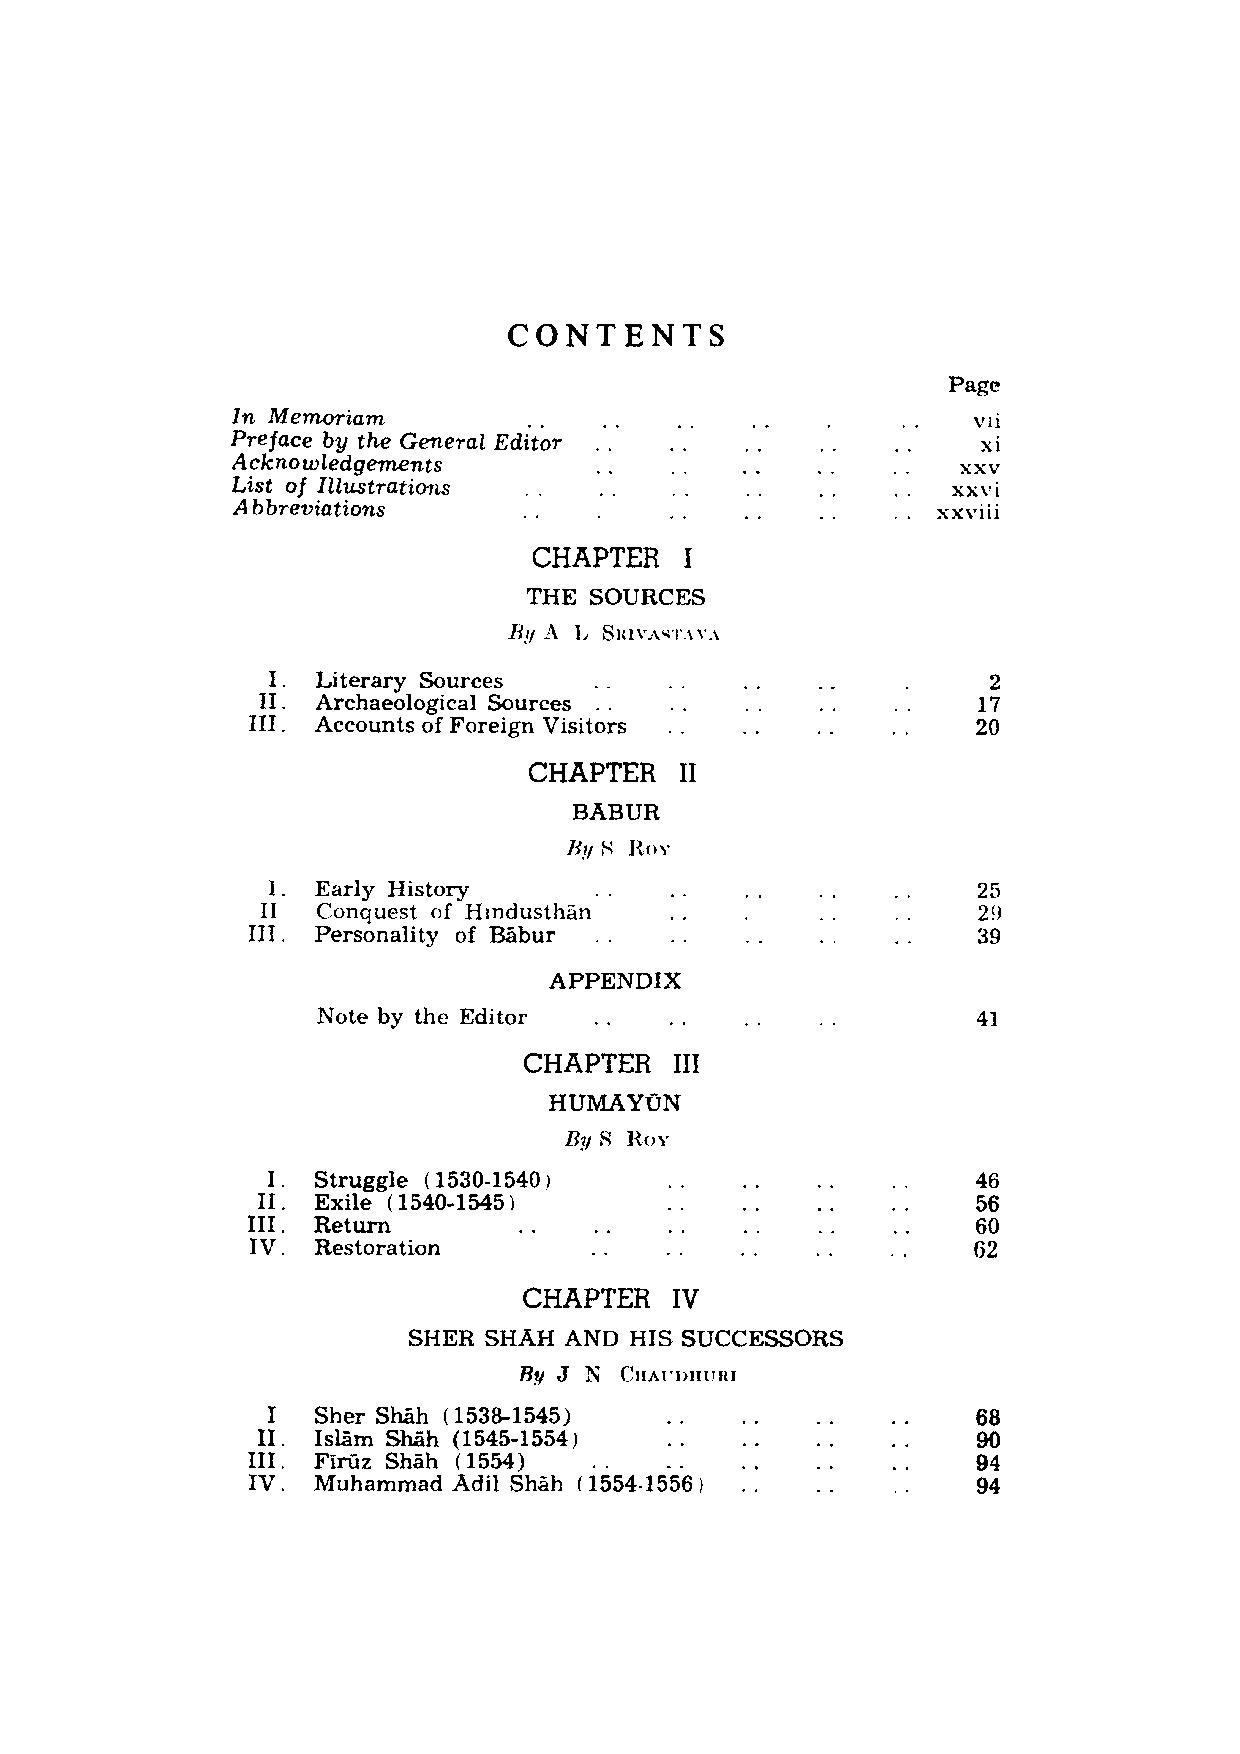TOC_chapter: (404, 1286, 845, 1388), (497, 539, 731, 646), (517, 1048, 705, 1150), (525, 760, 701, 862), (246, 1472, 701, 1494), (246, 717, 627, 738), (244, 922, 557, 947), (228, 429, 566, 452), (264, 1402, 572, 1427), (256, 1427, 581, 1449), (264, 1168, 552, 1192), (254, 692, 573, 714), (258, 900, 592, 921), (260, 666, 506, 691), (246, 1449, 530, 1471), (314, 1002, 527, 1031), (255, 1190, 518, 1212), (264, 878, 470, 900), (228, 454, 446, 475), (225, 476, 451, 495), (246, 1236, 442, 1257), (228, 404, 389, 429), (246, 1213, 393, 1235), (227, 497, 391, 515), (548, 968, 684, 989)
TOC_pagenumber: (935, 502, 1001, 519), (949, 479, 1002, 498), (958, 462, 1001, 476), (973, 1007, 998, 1029), (973, 1428, 1001, 1448), (973, 1169, 1002, 1188), (976, 433, 1002, 454), (974, 1192, 1001, 1212), (972, 412, 1002, 429), (974, 1405, 1000, 1425), (974, 694, 1001, 713), (972, 1239, 998, 1257), (977, 925, 1000, 946), (974, 717, 1000, 735), (976, 880, 1001, 899), (974, 1476, 1001, 1494), (976, 1215, 998, 1235), (978, 903, 1002, 922), (974, 1451, 998, 1469), (986, 672, 1002, 690)
chapter: (503, 318, 725, 352)
